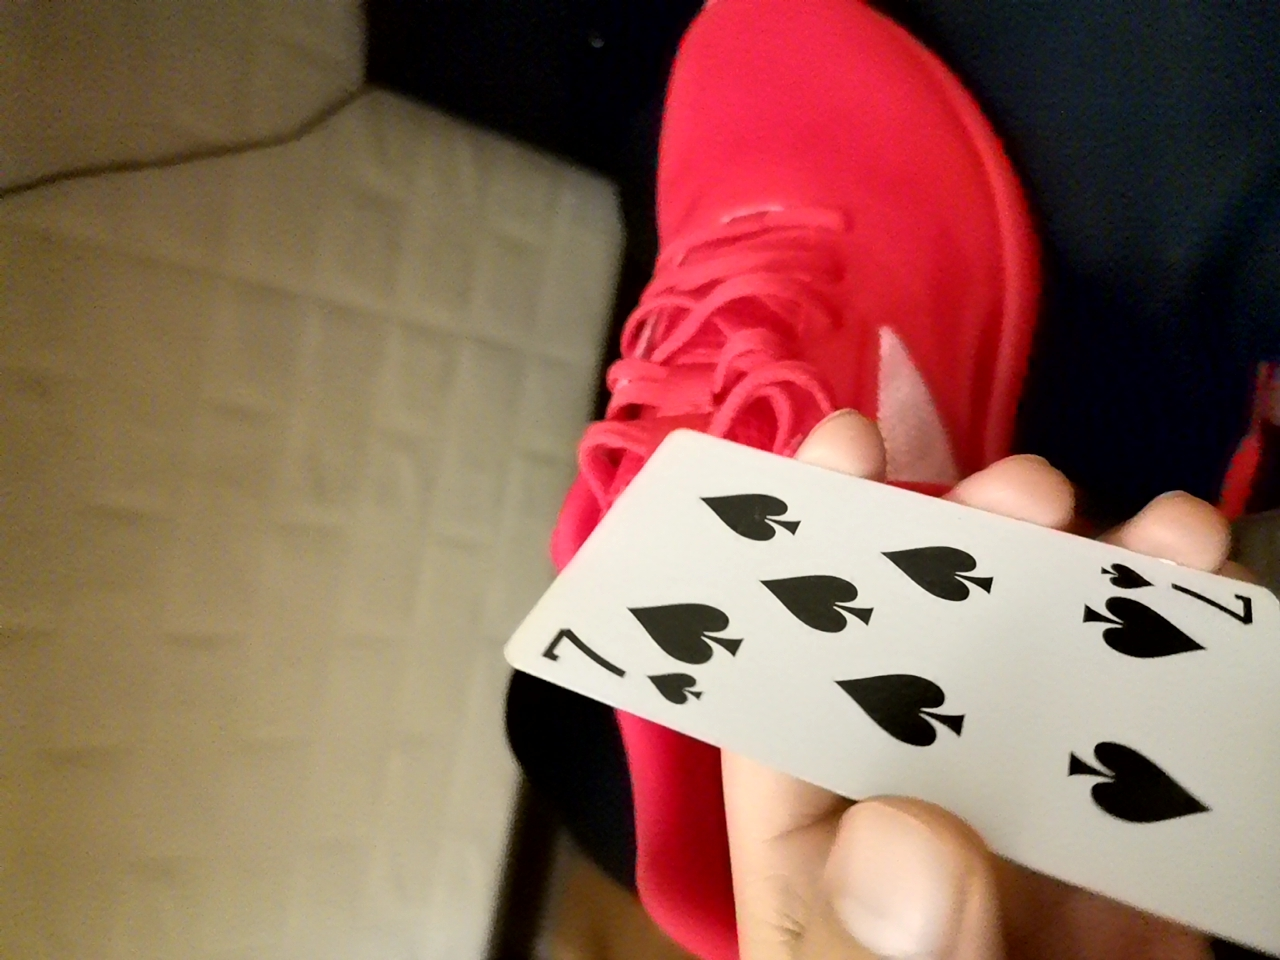ht 7: (490, 424, 1273, 934)
